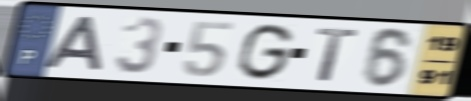3: (115, 15, 163, 76)
5: (181, 20, 237, 79)
6: (359, 26, 419, 90)
A: (41, 14, 106, 72)
G: (234, 22, 296, 82)
T: (314, 26, 361, 84)
